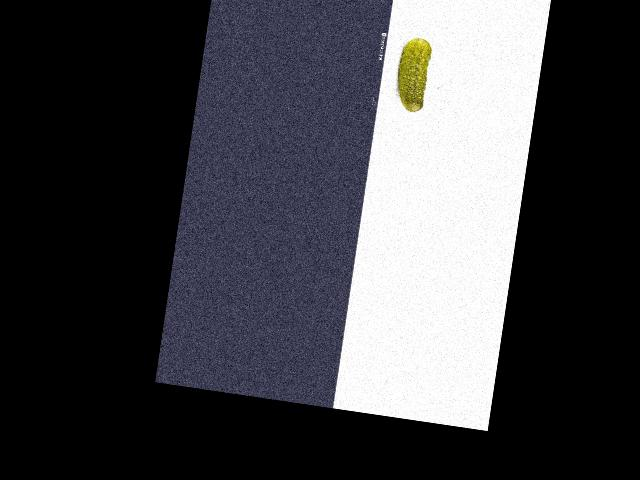cucumber: (392, 36, 433, 114)
